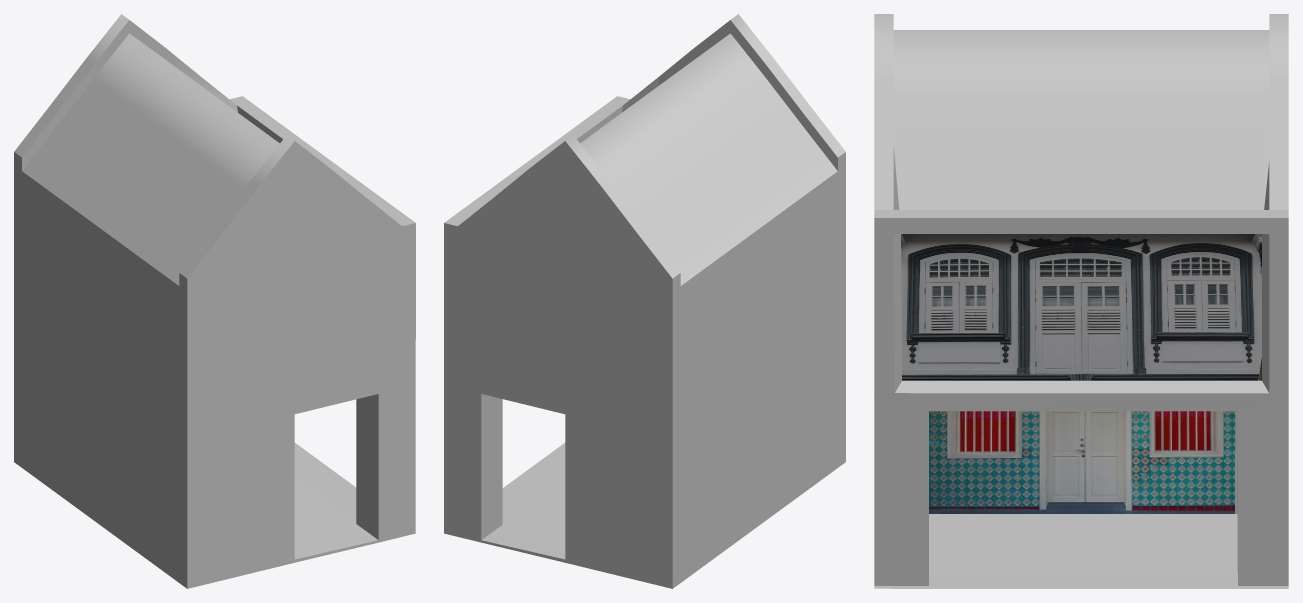
Rendered from shophouse.fbx.
3 views of the same model, side by side, from view 1: azimuth 30°, elevation 25°; view 2: azimuth 150°, elevation 25°; view 3: azimuth 270°, elevation 25° (orthographic). The views are drawn at different scales.
Visible parts, largest first — view 1: Shophouse12; view 2: Shophouse12; view 3: Shophouse12.
Boxes of the visible parts, x1,y1,x2,y2 form: Shophouse12: [14, 14, 415, 588]; Shophouse12: [444, 14, 845, 588]; Shophouse12: [874, 14, 1288, 588].
Bounding box in the file's own units: 408 × 721 × 536.
